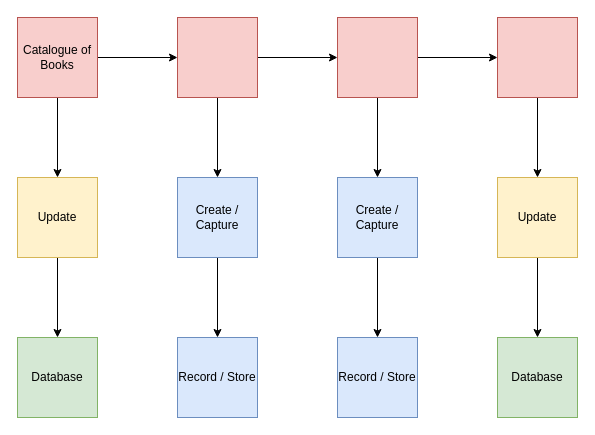
Image size: 595x435. Some labels were removed from this diagram. The shapes that lost their labels are listed below. From the top down, each one's box as (x1, y1, x2, y2) in pixels, then its label:
(176, 16, 258, 98): Payments
(336, 16, 418, 98): Shipping Details
(496, 16, 578, 98): Prices
